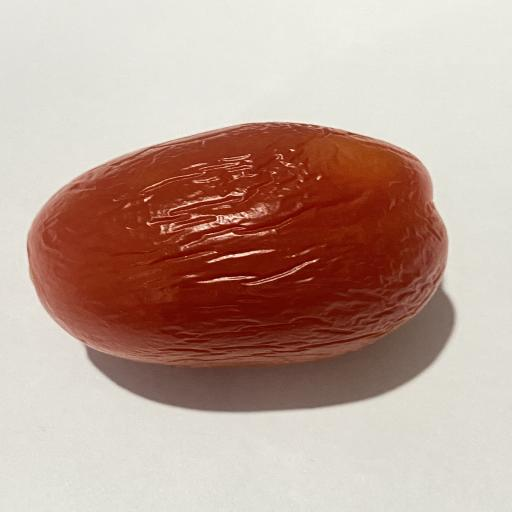spoiled: (27, 122, 447, 367), (214, 257, 221, 261)
